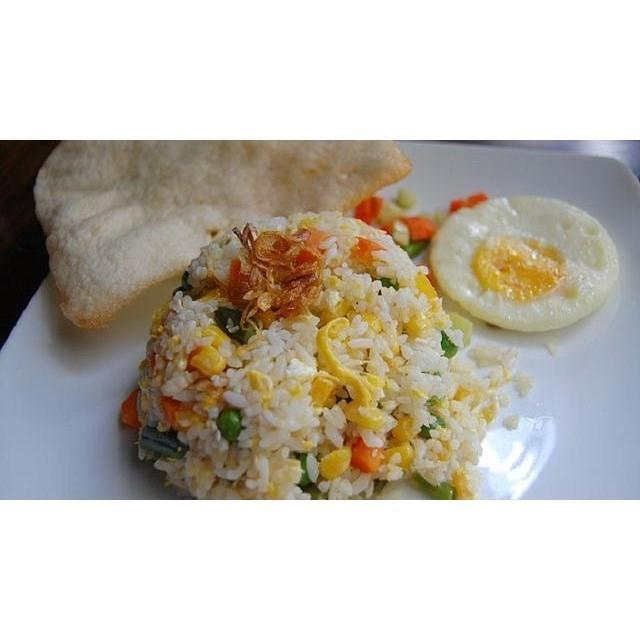Nasi Goreng: (120, 209, 526, 499)
